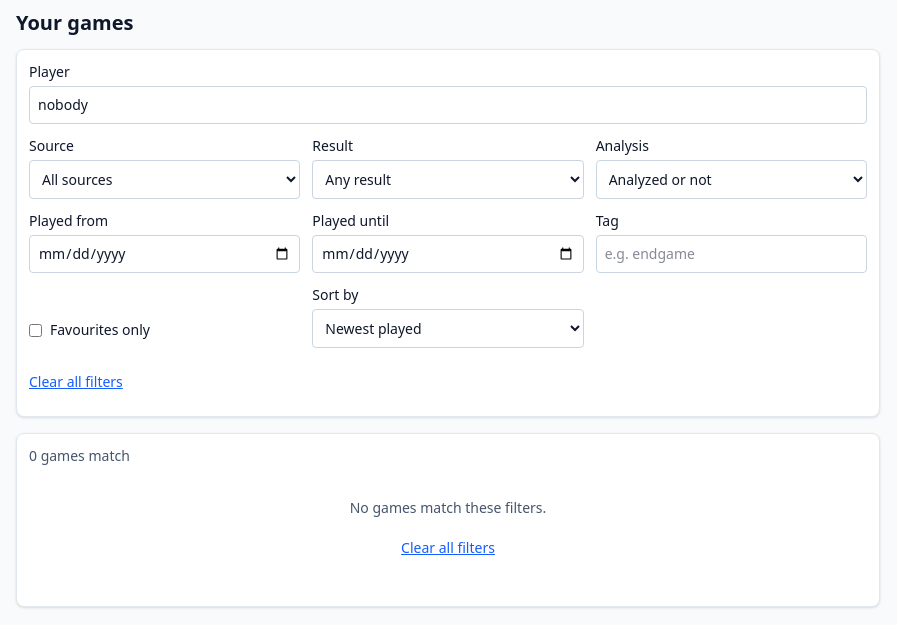
it: filters › explains an empty result and clears the filters
The image size is (897, 625).
Expected: the text "No games match these filters." is shown, [350,498,546,517]
Expected: the text "Export" is not shown
Click the button "Clear all filters" below "Favourites only" at (76, 382), box [29,360,123,404]
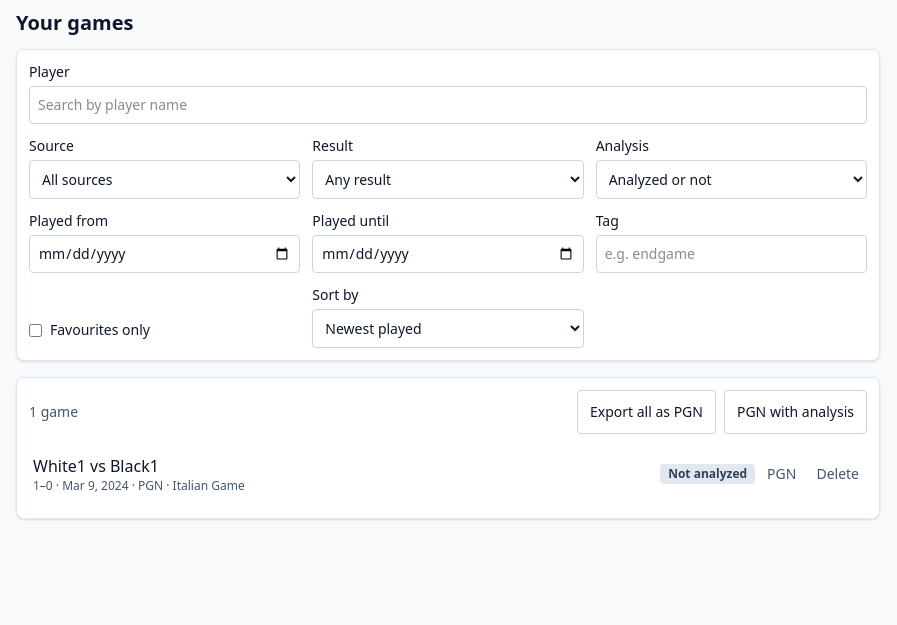
Result: the text "White1 vs Black1" is shown at [33,455,159,477]
Result: the search field labelled "Player" is empty at [29,86,867,124]
